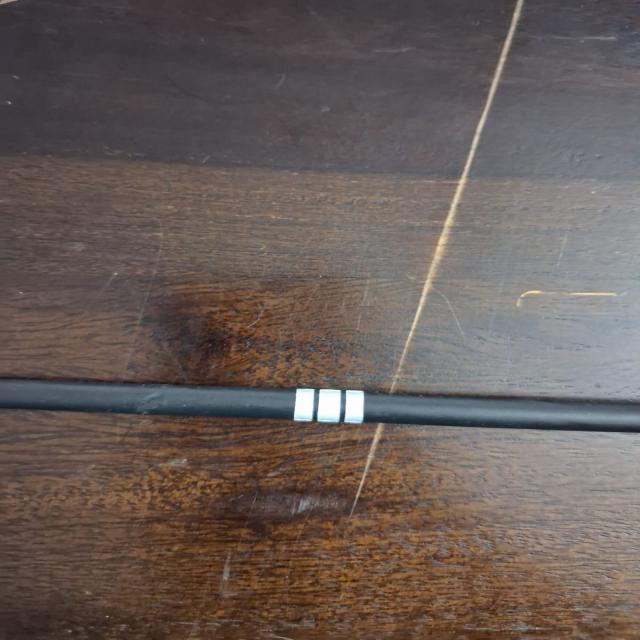white: (291, 386, 368, 426)
